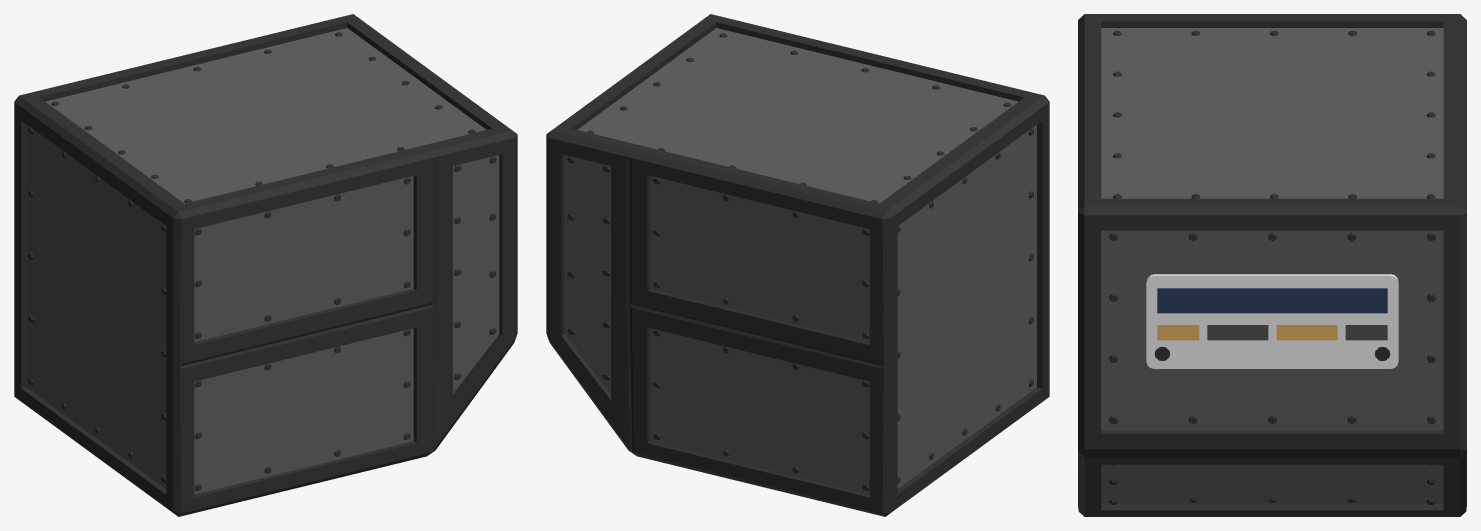
Rendered from airport-cargo-container-2.glb.
The picture shows the model from 3 angles, left to right: view 1: azimuth 30°, elevation 25°; view 2: azimuth 150°, elevation 25°; view 3: azimuth 270°, elevation 25°; orthographic projection. The views are drawn at different scales.
Parts seen in each view (by area): view 1: 05.Container2_AIRPORT_0; view 2: 05.Container2_AIRPORT_0; view 3: 05.Container2_AIRPORT_0.
Boxes of the visible parts, x1,y1,x2,y2 form: 05.Container2_AIRPORT_0: (14, 14, 517, 516); 05.Container2_AIRPORT_0: (546, 14, 1049, 516); 05.Container2_AIRPORT_0: (1078, 14, 1466, 516).
Bounding box in the file's own units: 4.48 × 3.79 × 3.72.
1 material, 1 textured.
